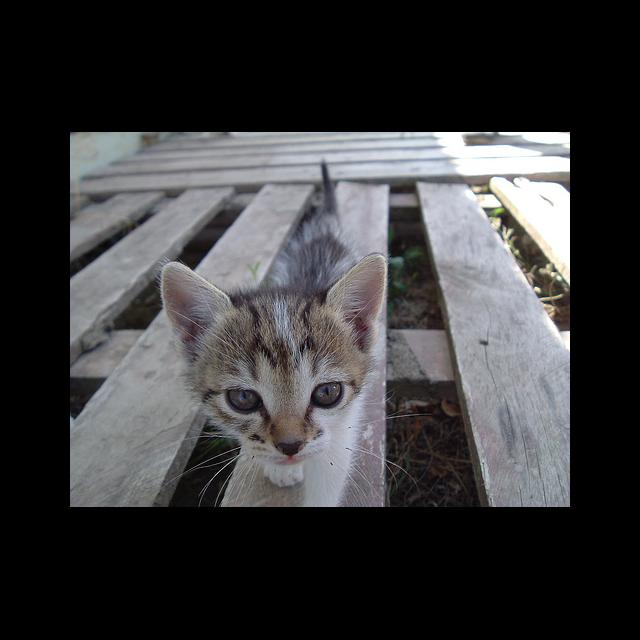animals: (169, 256, 379, 454)
